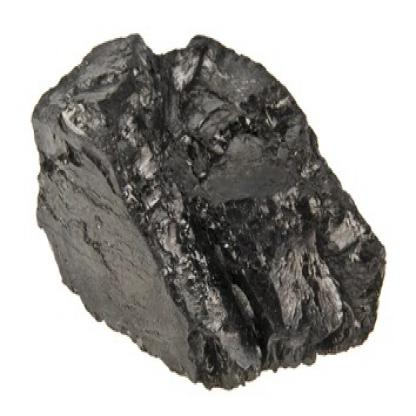Sedimentary_coal: (27, 13, 388, 385)
